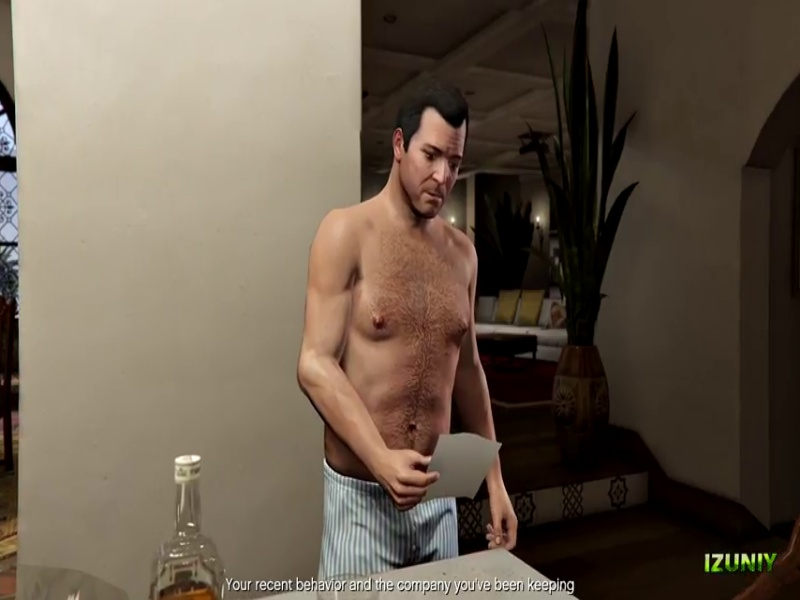human: (298, 93, 495, 558)
